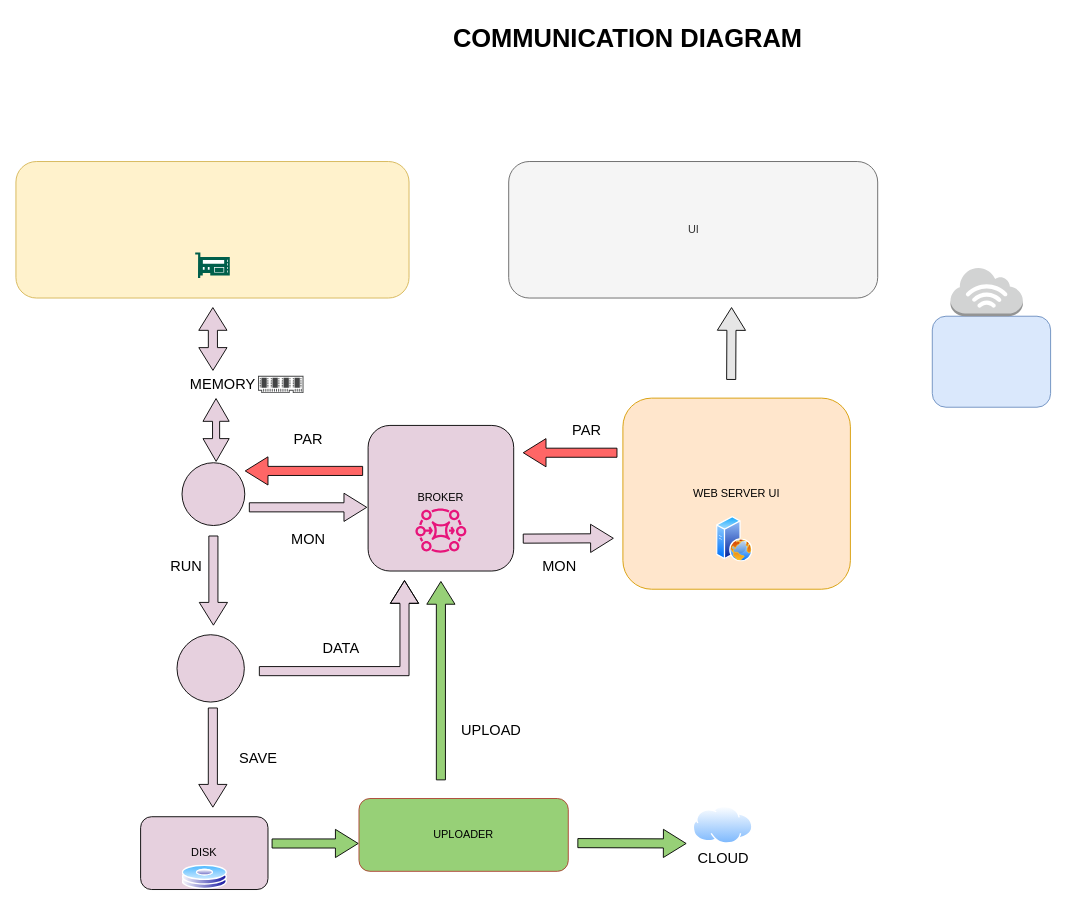
Image size: 1067x905. Some labels were removed from this diagram. The shapes that lost their labels are listed below. From the top down, each one's box as (x1, y1, x2, y2) in pixels, then its label:
(15, 161, 409, 298): HARDWARE{RASPI/STM32/BBB)
(931, 315, 1051, 407): WIFI "MONWIFI"
